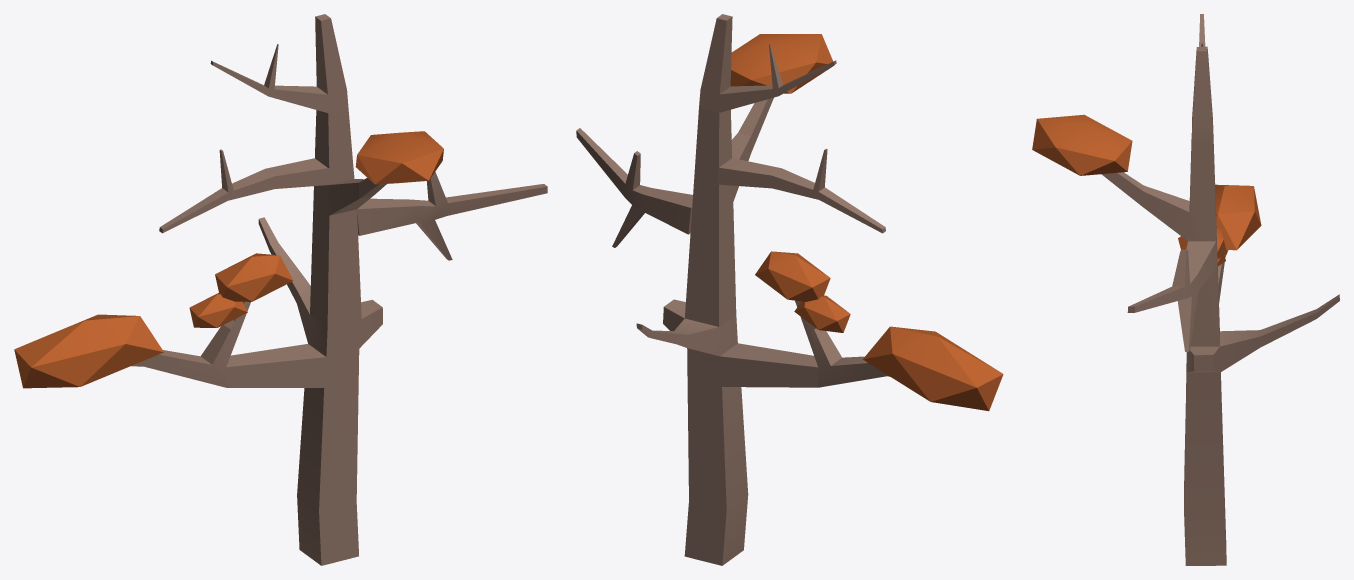
File: tree_2.fbx
3 renders of one model, left to right at view 1: azimuth 30°, elevation 25°; view 2: azimuth 150°, elevation 25°; view 3: azimuth 270°, elevation 25°, orthographic. The views are drawn at different scales.
Parts seen in each view (by area): view 1: TREE.009, TREE.008, TREE.007, TREE.010, TREE.011, TREE.013, TREE.012; view 2: TREE.009, TREE.008, TREE.007, TREE.011, TREE.013, TREE.010, TREE.012; view 3: TREE.009, TREE.007, TREE.011, TREE.010, TREE.008, TREE.013.
Boxes of the visible parts, bbox=[...] form: TREE.009: bbox=[226, 217, 382, 565]; TREE.008: bbox=[14, 253, 293, 388]; TREE.007: bbox=[310, 108, 373, 327]; TREE.010: bbox=[357, 171, 547, 260]; TREE.011: bbox=[355, 131, 443, 198]; TREE.013: bbox=[210, 14, 348, 113]; TREE.012: bbox=[159, 149, 329, 233]; TREE.009: bbox=[636, 299, 818, 565]; TREE.008: bbox=[755, 251, 1003, 411]; TREE.007: bbox=[685, 108, 751, 326]; TREE.011: bbox=[730, 34, 834, 151]; TREE.013: bbox=[699, 14, 836, 112]; TREE.010: bbox=[576, 128, 692, 247]; TREE.012: bbox=[717, 148, 885, 233]; TREE.009: bbox=[1184, 294, 1339, 565]; TREE.007: bbox=[1142, 139, 1219, 346]; TREE.011: bbox=[1032, 114, 1143, 206]; TREE.010: bbox=[1127, 241, 1217, 351]; TREE.008: bbox=[1178, 184, 1261, 302]; TREE.013: bbox=[1191, 14, 1213, 143].
Bounding box in the file's own units: 14.03 × 15.36 × 8.49.
